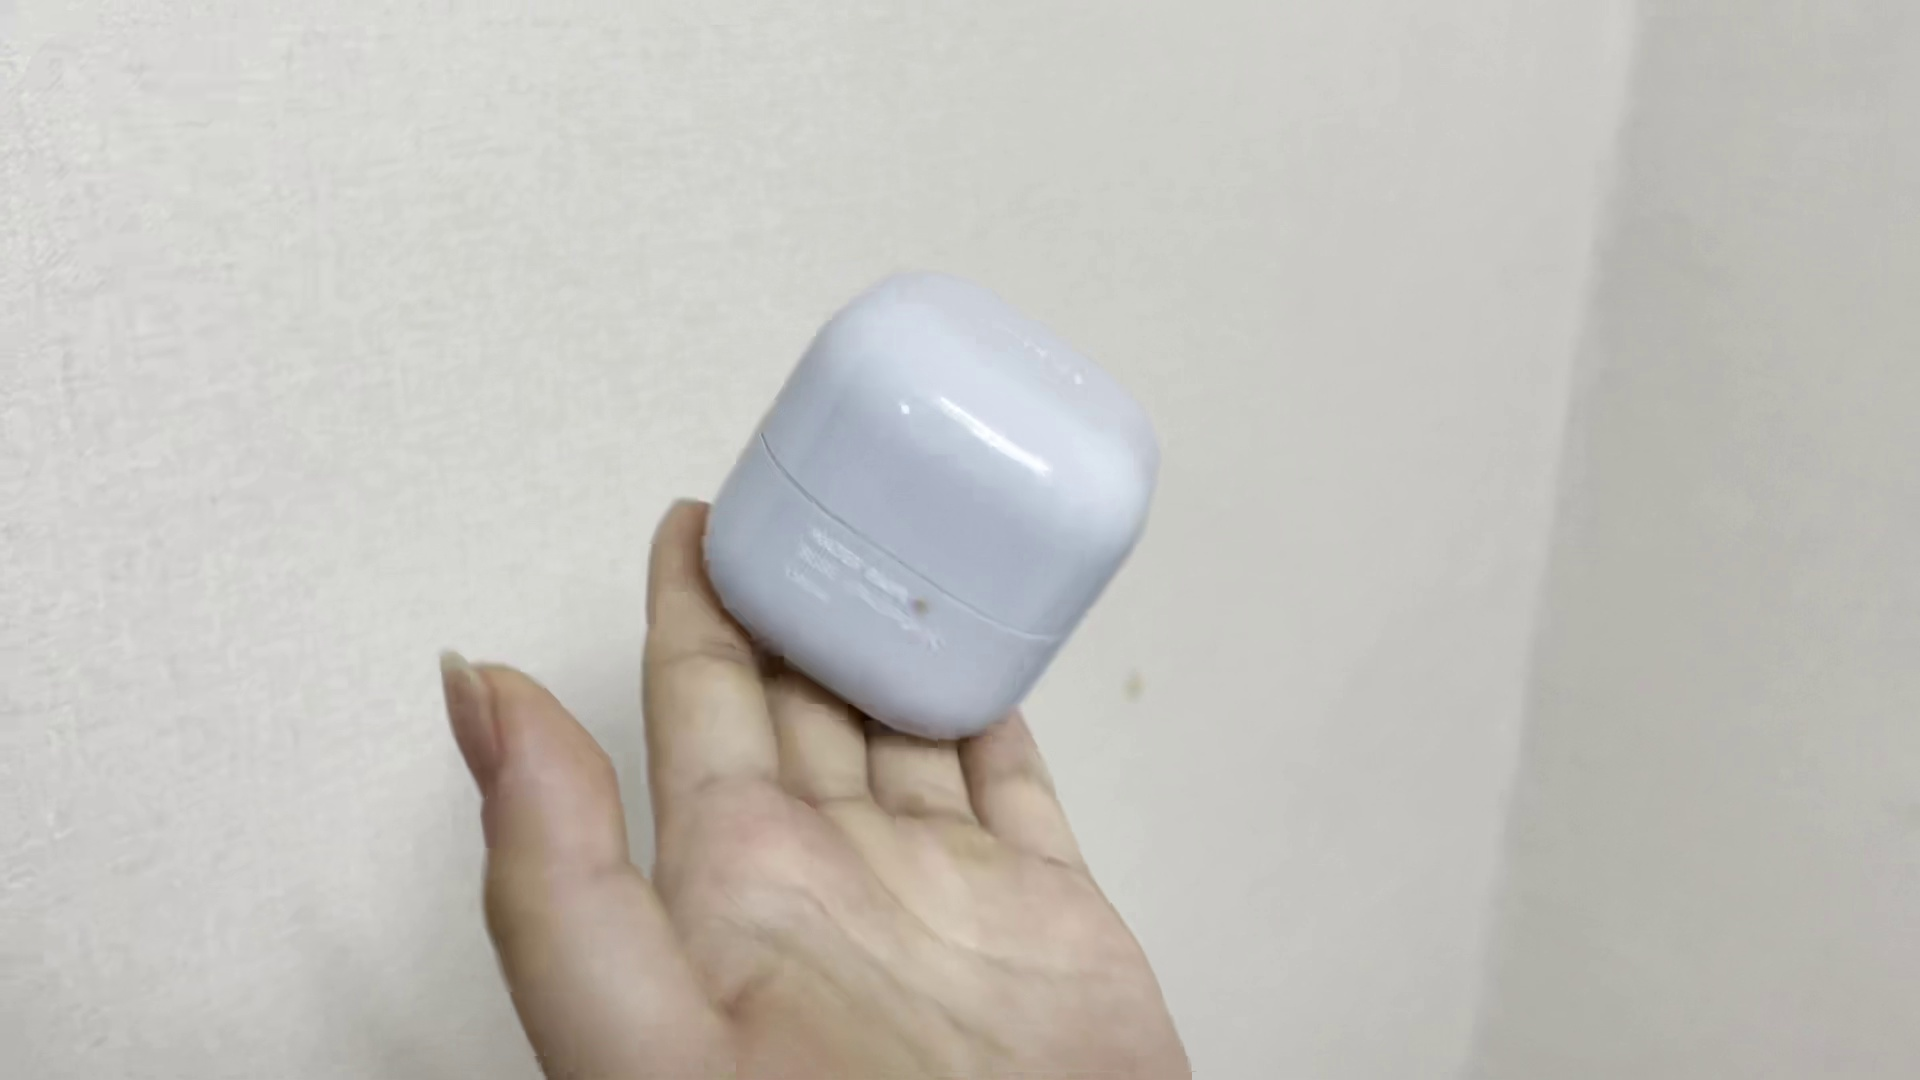cream: (698, 264, 1162, 740)
